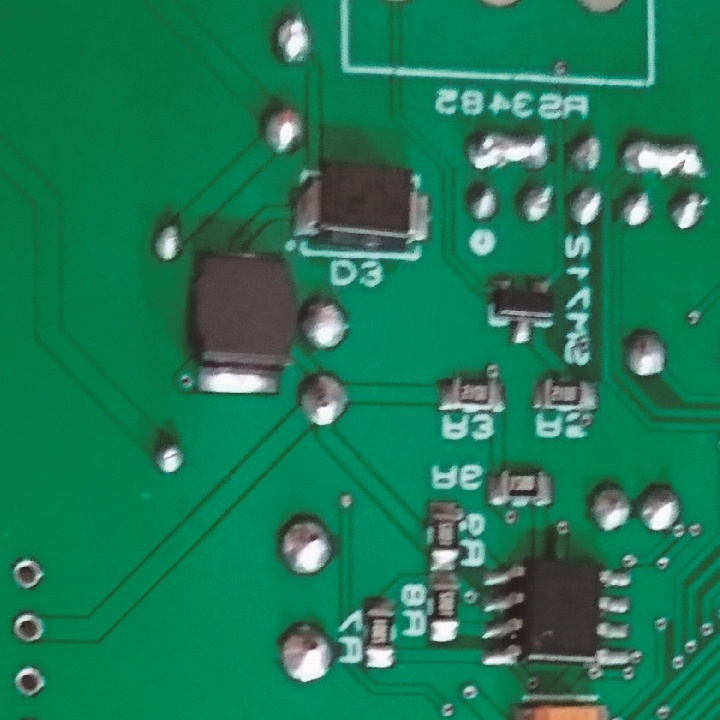F: (10, 611, 48, 647), (10, 556, 47, 592), (13, 665, 44, 696)
P: (617, 133, 699, 180), (464, 128, 550, 172)
